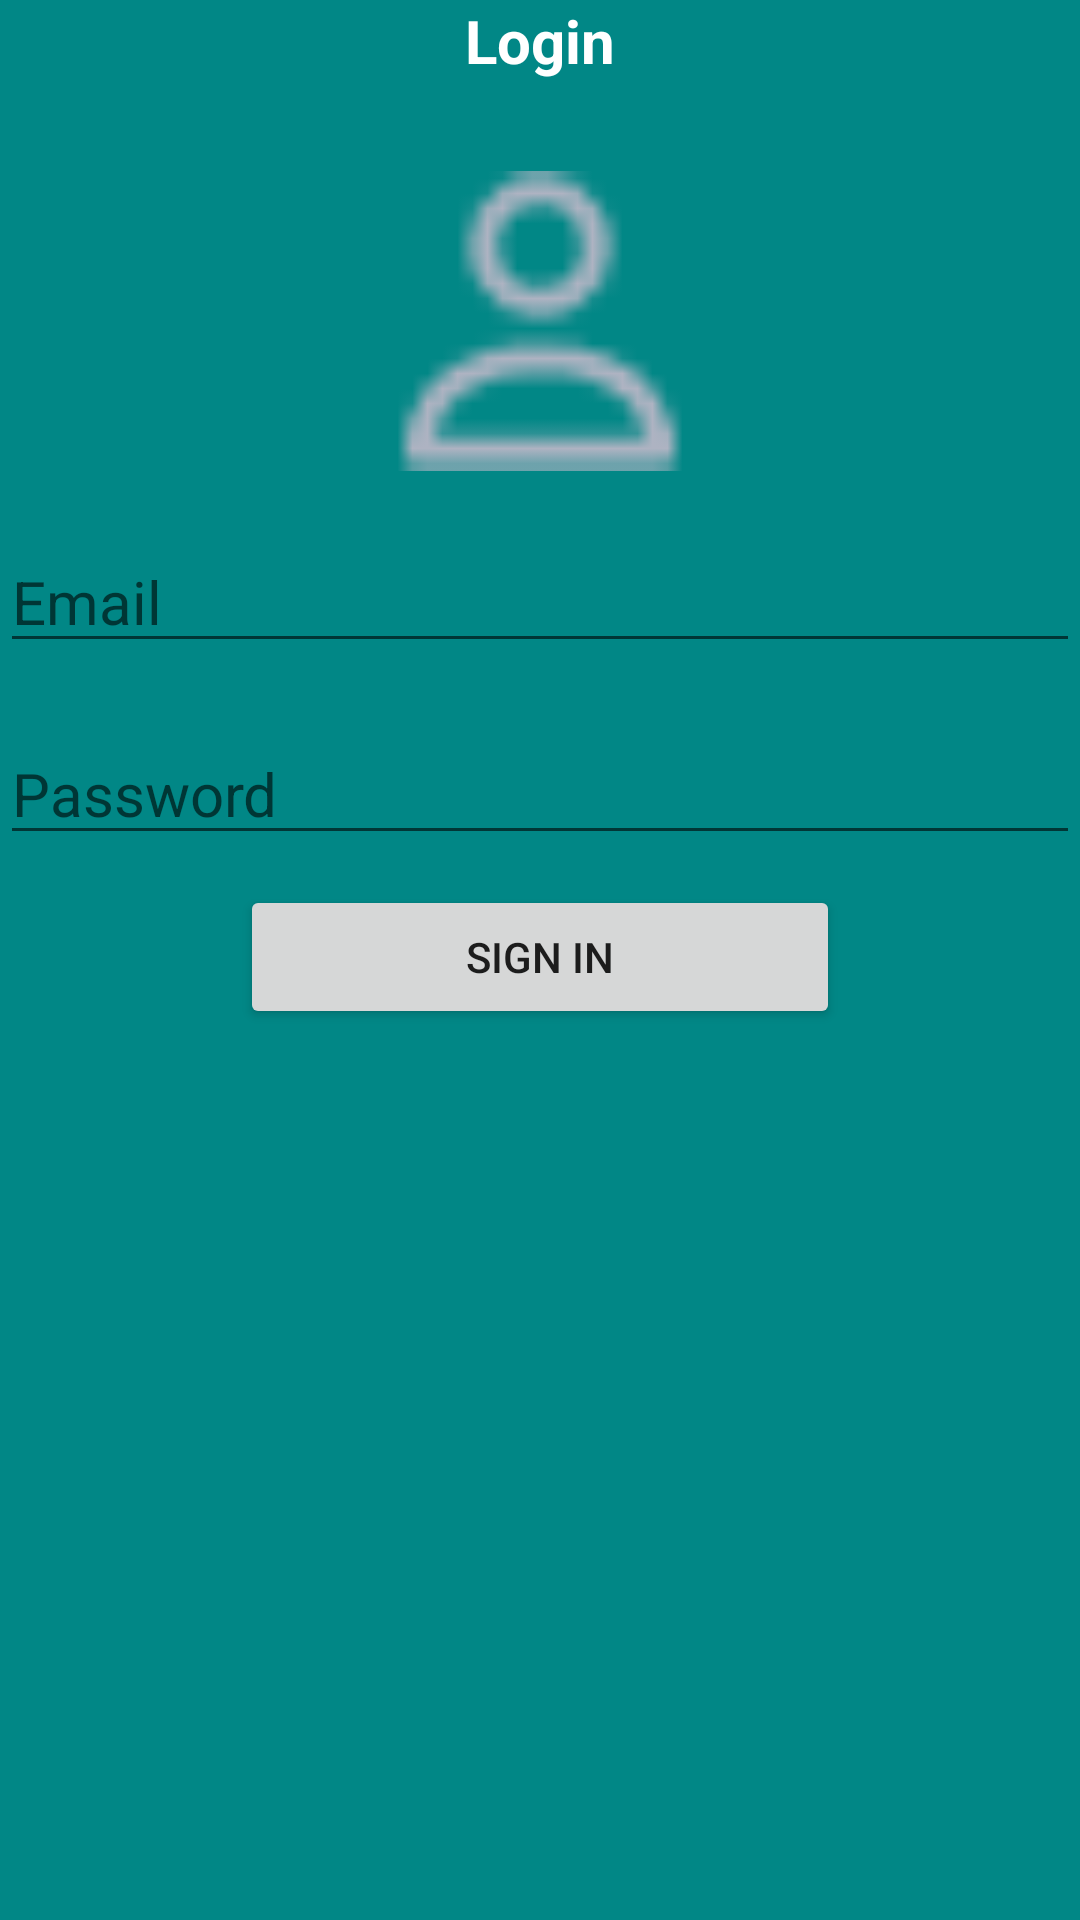

Icon bounding boxes for this 1080px x 1920px phone screenshot, format {"x1": x1, "y1": y1, "x2": x2, "y2": y2}:
profile: {"x1": 400, "y1": 171, "x2": 680, "y2": 471}
